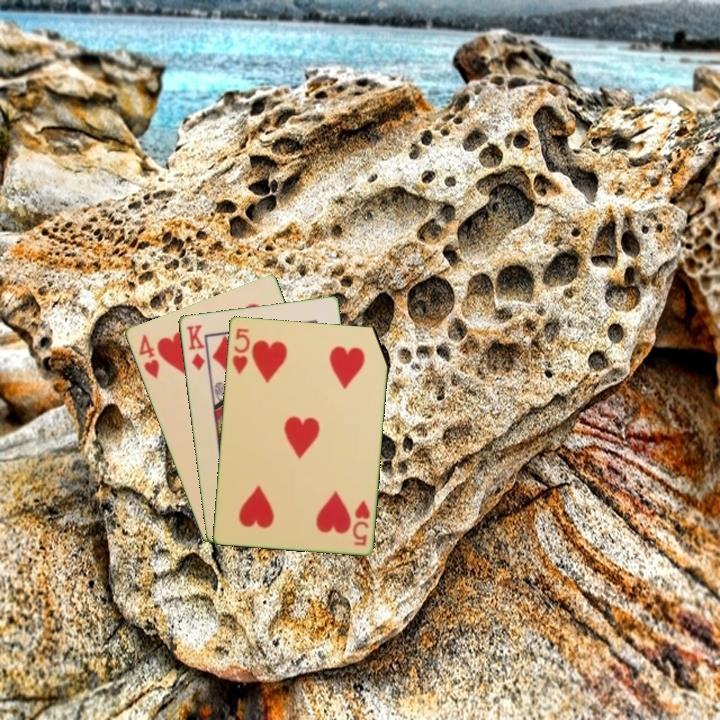4h: (135, 331, 162, 382)
5h: (229, 324, 253, 377), (349, 497, 372, 548)
Kd: (183, 321, 208, 373)
